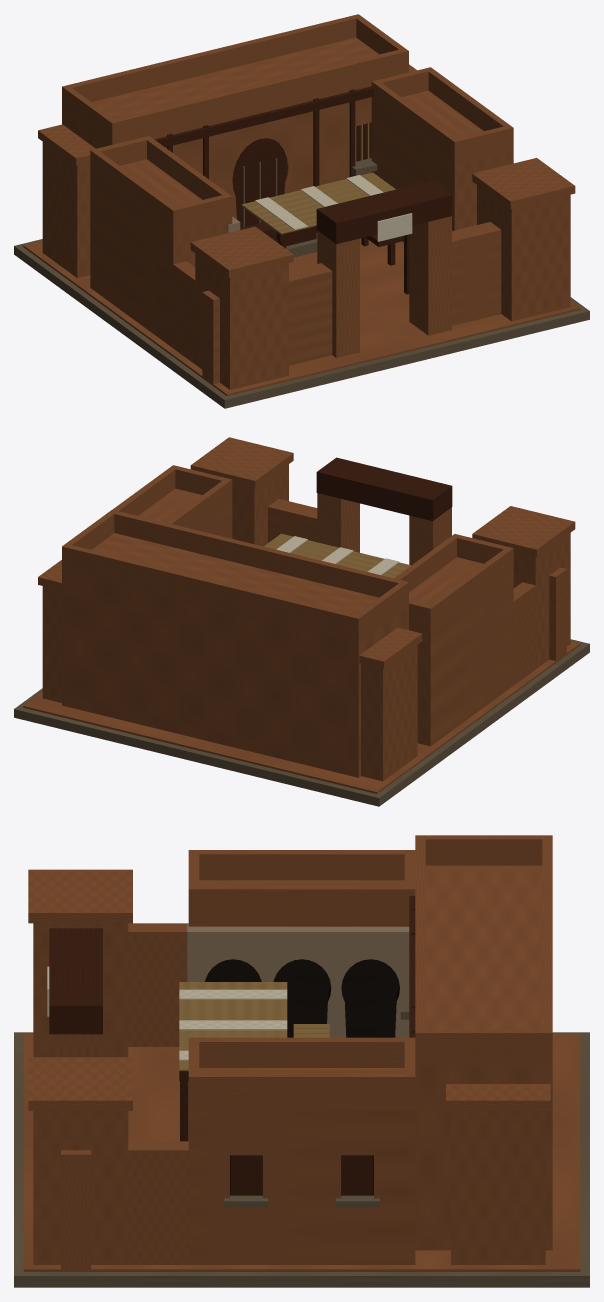
File: Berber_TC_Age1.fbx
3 views of the same model, one above another, from view 1: azimuth 30°, elevation 25°; view 2: azimuth 150°, elevation 25°; view 3: azimuth 270°, elevation 25° (orthographic). The views are drawn at different scales.
Parts seen in each view (by area): view 1: council_courtyard, west_range, rear_council_hall, corner_watch_room, corner_watch_room.002, hall_roof, foundation, hall_parapet_long, hall_parapet_long.001, east_range, front_enclosure, corner_watch_room.001 (+27 smaller); view 2: rear_council_hall, west_range, hall_roof, foundation, hall_parapet_long.001, hall_parapet_long, corner_watch_room.001, council_courtyard, entry_lintel, corner_watch_room, corner_flat_cap.002, corner_flat_cap (+22 smaller); view 3: east_range, hall_roof, council_courtyard, corner_watch_room.003, foundation, corner_watch_room.002, courtyard_arcade_wall, rear_council_hall, west_range, side_enclosure_link.001, west_parapet_end.001, east_parapet_end.001 (+26 smaller).
Part boxes in pixels (x1,y1,x2,y2): council_courtyard: (23, 238, 580, 395); west_range: (90, 175, 232, 347); rear_council_hall: (62, 85, 371, 219); corner_watch_room: (195, 253, 288, 389); corner_watch_room.002: (477, 185, 570, 321); hall_roof: (62, 37, 408, 145); foundation: (14, 239, 589, 408); hall_parapet_long: (108, 48, 408, 144); hall_parapet_long.001: (62, 14, 361, 110); east_range: (371, 106, 513, 242); front_enclosure: (202, 263, 332, 385); corner_watch_room.001: (42, 142, 90, 277); rear_council_hall: (62, 571, 408, 777); west_range: (409, 573, 513, 746); hall_roof: (62, 533, 408, 643); foundation: (14, 639, 589, 806); hall_parapet_long.001: (62, 543, 362, 640); hall_parapet_long: (108, 509, 408, 606); corner_watch_room.001: (361, 645, 417, 781); council_courtyard: (23, 641, 580, 793); entry_lintel: (316, 457, 452, 520); corner_watch_room: (513, 533, 570, 668); corner_flat_cap.002: (190, 437, 293, 488); corner_flat_cap: (472, 506, 575, 557); east_range: (188, 1111, 415, 1264); hall_roof: (415, 865, 552, 1066); council_courtyard: (23, 1033, 580, 1271); corner_watch_room.003: (451, 1111, 545, 1264); foundation: (14, 1032, 589, 1287); corner_watch_room.002: (33, 1111, 128, 1264); courtyard_arcade_wall: (187, 923, 409, 1082); rear_council_hall: (415, 1067, 552, 1250); west_range: (188, 923, 409, 1037); side_enclosure_link.001: (128, 1141, 188, 1264); west_parapet_end.001: (199, 885, 404, 919); east_parapet_end.001: (199, 1073, 404, 1106).
Size of the model in its own units: 800 by 355 by 800.
6 materials, 6 textured.
